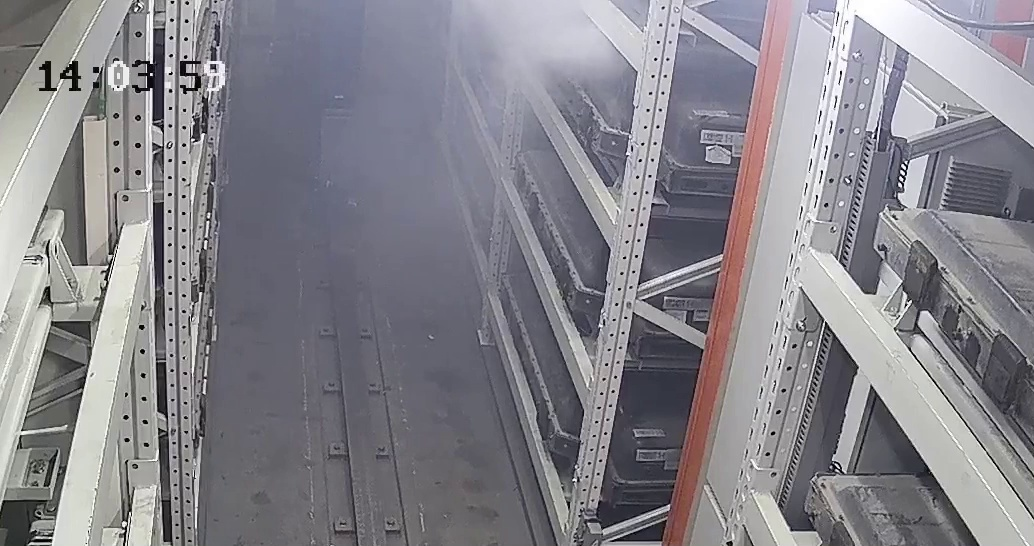smoke: (438, 5, 609, 89)
